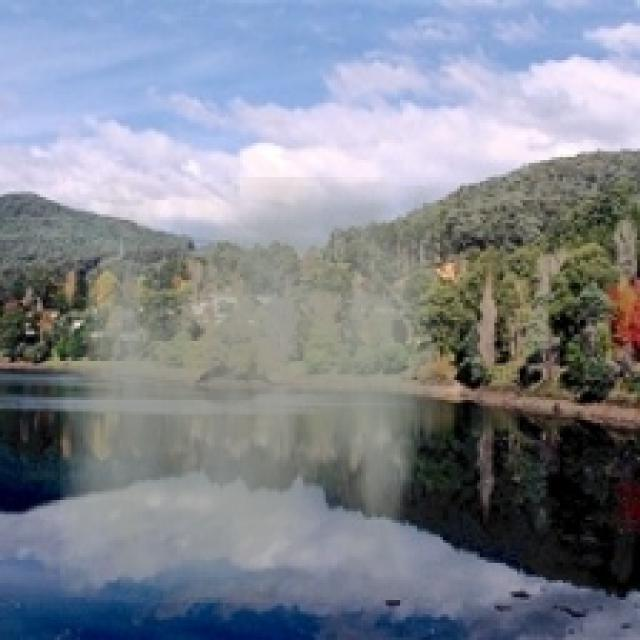Smoke: (60, 177, 440, 603)
